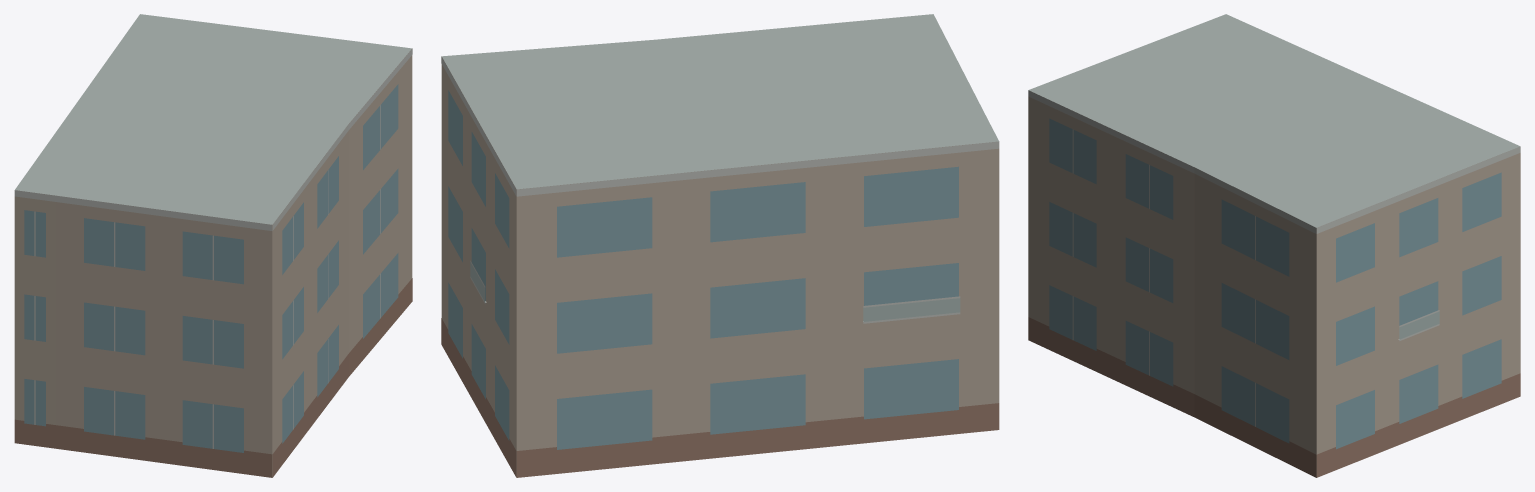
Rendered from survey-upis-32840208.glb.
The picture shows the model from 3 angles, left to right: view 1: azimuth 30°, elevation 25°; view 2: azimuth 150°, elevation 25°; view 3: azimuth 270°, elevation 25°; orthographic projection. The views are drawn at different scales.
Parts seen in each view (by area): view 1: survey-upis-32840208.tmp; view 2: survey-upis-32840208.tmp; view 3: survey-upis-32840208.tmp.
Boxes of the visible parts, x1,y1,x2,y2 form: survey-upis-32840208.tmp: (14,14,412,477); survey-upis-32840208.tmp: (441,14,999,477); survey-upis-32840208.tmp: (1028,14,1520,477).
Size of the model in its own units: 17.8 by 9.7 by 17.32.
